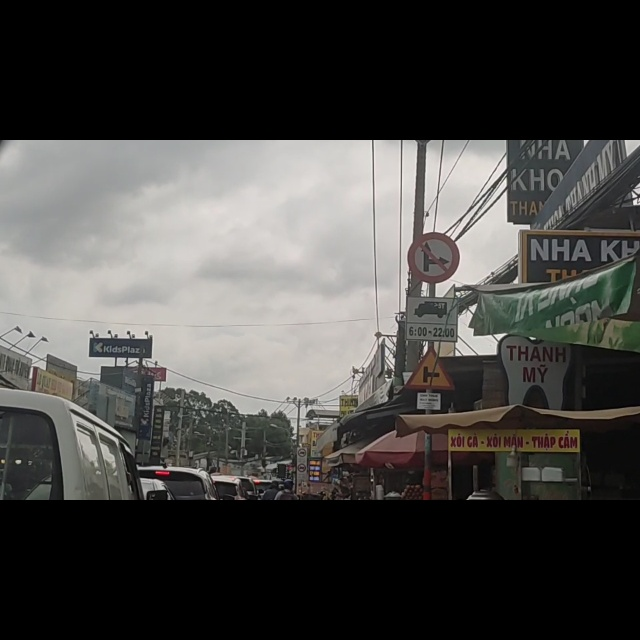bien_nguy_hiem: (409, 164, 459, 252), (405, 369, 458, 442), (405, 281, 457, 352)
